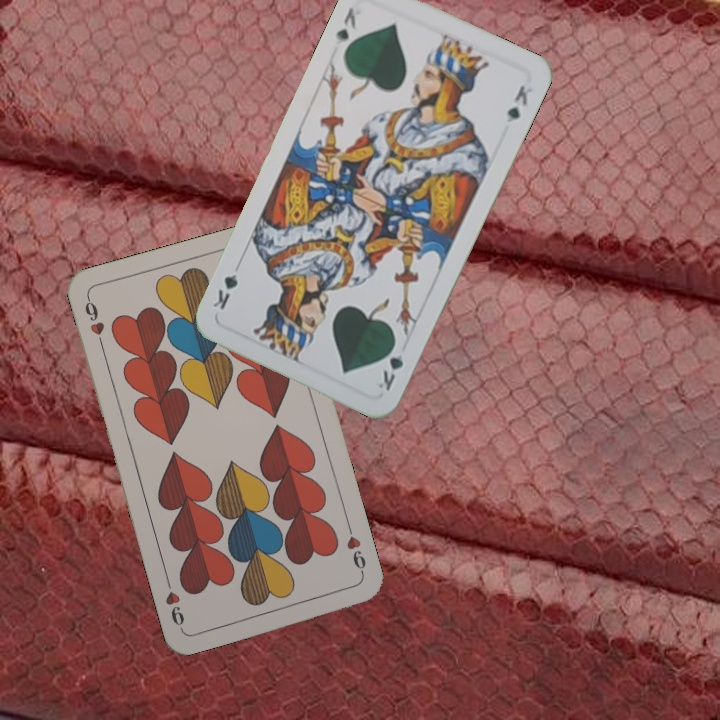GK: (372, 336, 406, 394), (331, 2, 359, 48)
H9: (80, 293, 107, 351), (342, 521, 369, 579)
